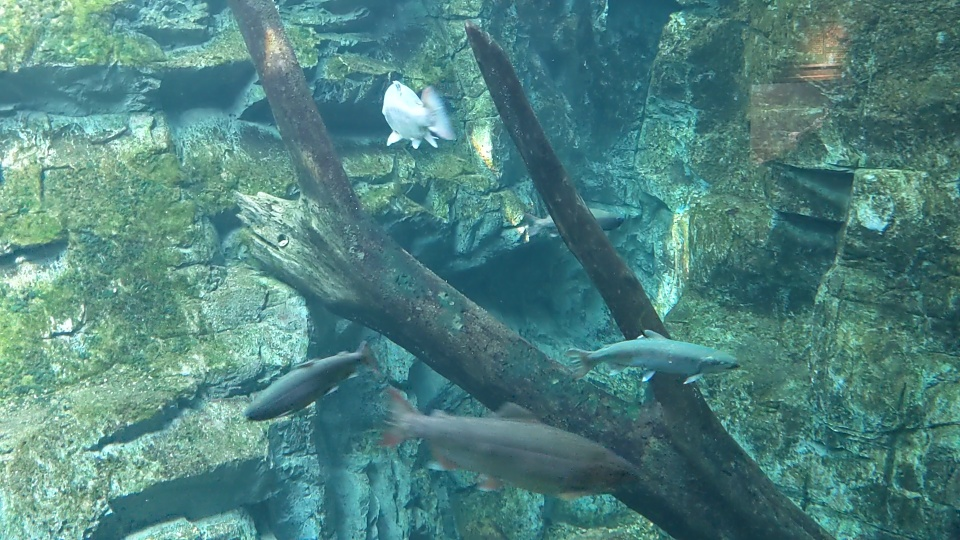Fish: (377, 389, 635, 502), (239, 341, 387, 423), (566, 323, 733, 380), (379, 75, 454, 152), (516, 201, 565, 240)
